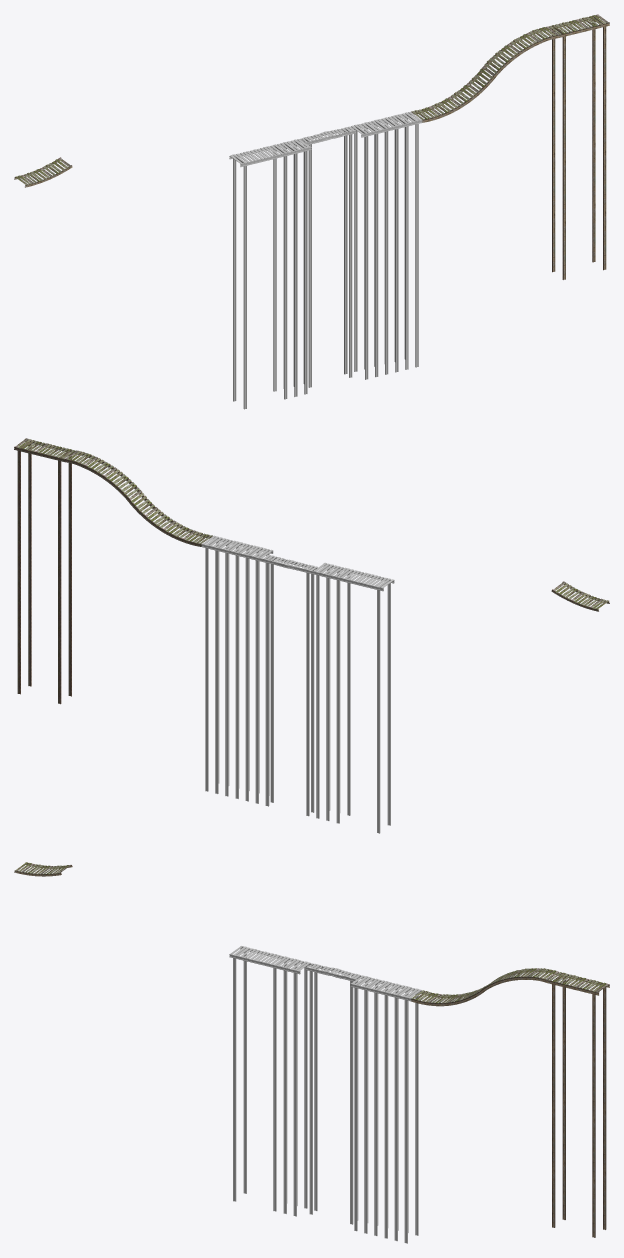
The picture shows the model from 3 angles, top to bottom: view 1: azimuth 30°, elevation 25°; view 2: azimuth 150°, elevation 25°; view 3: azimuth 330°, elevation 25°; orthographic projection.
Visible parts, largest first — view 1: Ramp.006, Ramp.001, Ramp.005, Ramp.004, Ramp.002; view 2: Ramp.006, Ramp.001, Ramp.005, Ramp.004, Ramp.002; view 3: Ramp.006, Ramp.001, Ramp.005, Ramp.002.
Boxes of the visible parts, x1,y1,x2,y2 form: Ramp.006: (229,111,422,409); Ramp.001: (548,14,609,279); Ramp.005: (411,65,497,122); Ramp.004: (484,32,540,74); Ramp.002: (14,157,72,187); Ramp.006: (201,535,394,833); Ramp.001: (14,438,75,704); Ramp.005: (126,489,212,546); Ramp.004: (83,456,139,499); Ramp.002: (551,581,609,611); Ramp.006: (229,946,421,1243); Ramp.001: (548,972,609,1237); Ramp.005: (411,984,488,1006); Ramp.002: (14,862,72,876).
Bounding box in the file's own units: 5788 × 2820 × 213.
